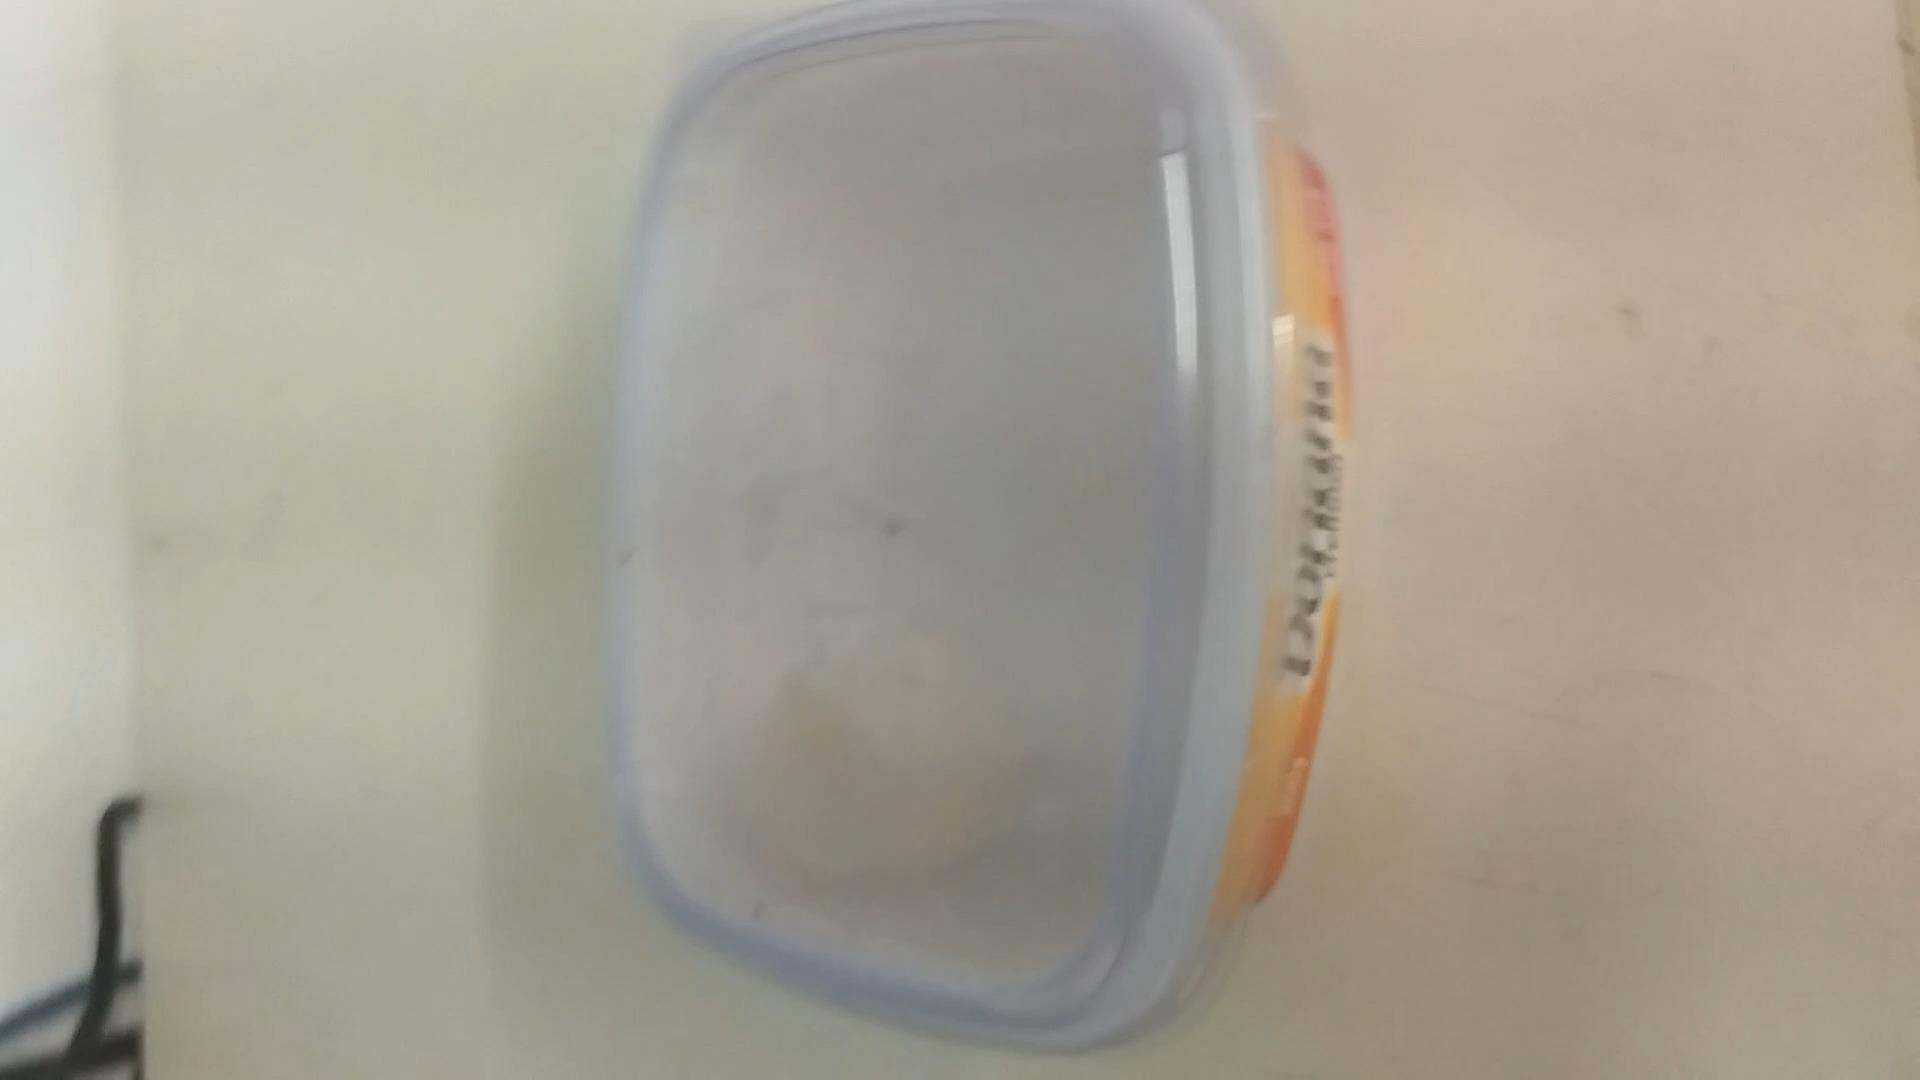butter: (612, 9, 1373, 1054)
